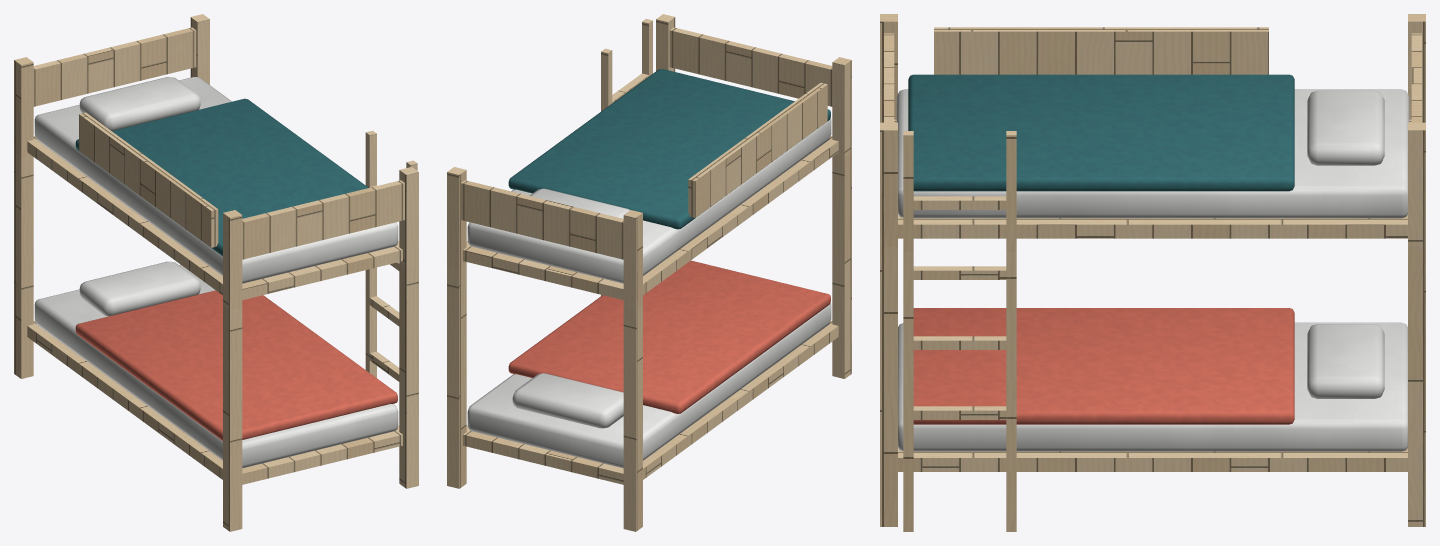
3 views of the same model, side by side, from view 1: azimuth 30°, elevation 25°; view 2: azimuth 150°, elevation 25°; view 3: azimuth 270°, elevation 25° (orthographic). The views are drawn at different scales.
Parts seen in each view (by area): view 1: Decor_bunk_bed; view 2: Decor_bunk_bed; view 3: Decor_bunk_bed.
Part boxes in pixels (bbox=[...]): Decor_bunk_bed: bbox=[14, 14, 418, 531]; Decor_bunk_bed: bbox=[447, 14, 851, 531]; Decor_bunk_bed: bbox=[880, 14, 1425, 531].
Size of the model in its own units: 1.12 by 1.7 by 2.12.
4 materials, 4 textured.
